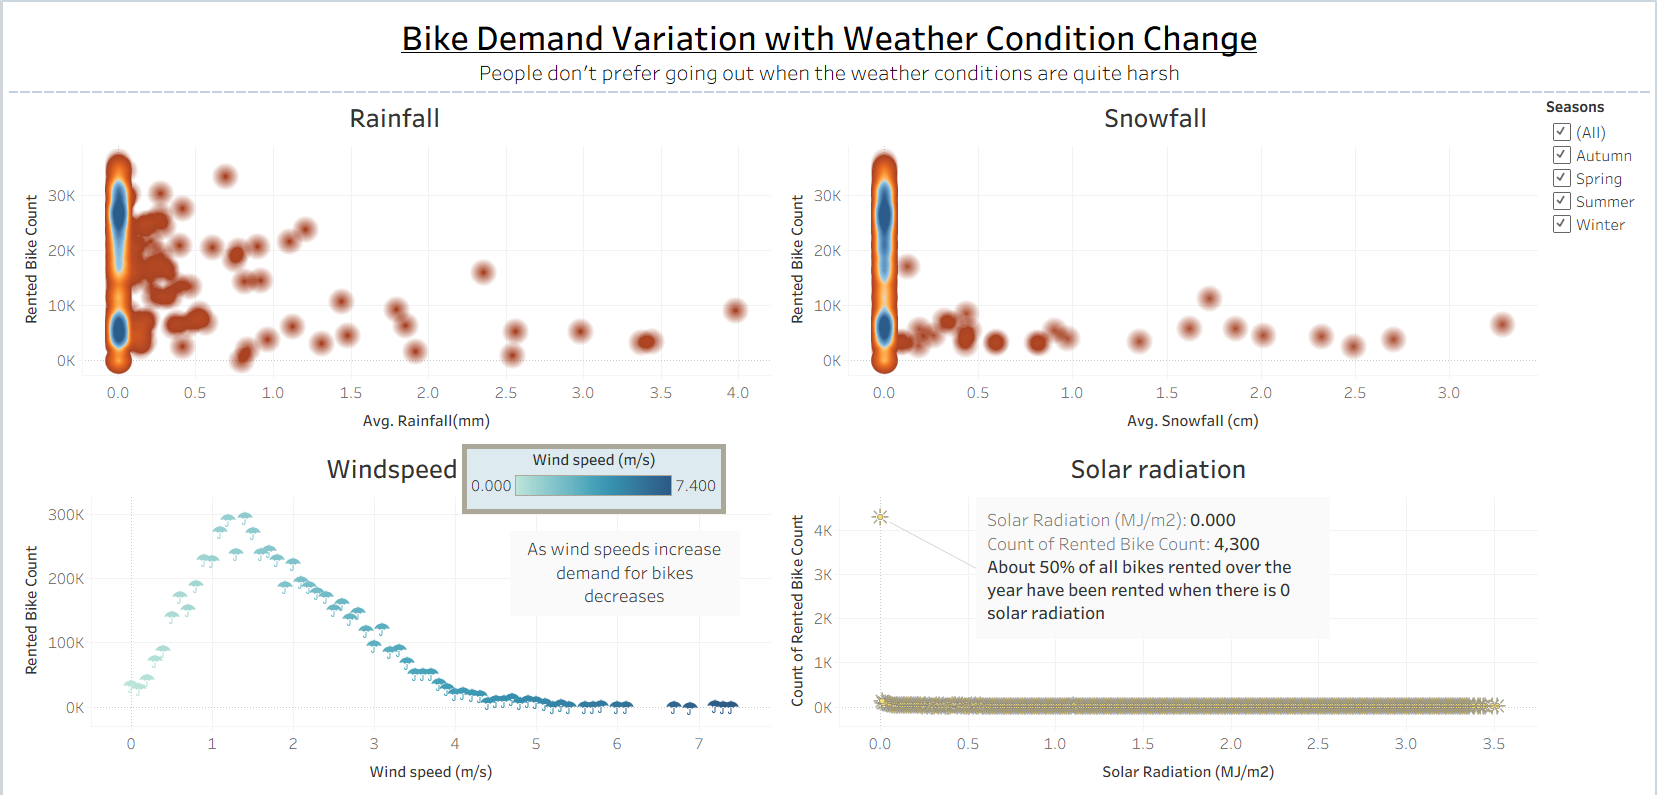

This screenshot's page, from the dashboard's own definition file:
{"tool":"tableau","page":{"name":"Weather Conditions","canvas":[1000,1000],"units":"permille","ordinal":3},"visuals":[{"type":"text","box":[6.5,11.3,987,104.9]},{"type":"worksheet","title":"rainfall d3","mark":"Heatmap","rows":["Rented Bike Count"],"cols":["Rainfall(mm)"],"box":[6.5,116.2,449.5,436.2]},{"type":"worksheet","title":"snowfall d3","mark":"Heatmap","rows":["Rented Bike Count"],"cols":["Snowfall (cm)"],"box":[456,116.2,449.6,436.2]},{"type":"filter","title":"rainfall d3","param":"[federated.1qjxm6e1j7kkr110pkmjh0wcti3r].[none:Seasons:nk]","box":[905.6,116.2,87.9,179.6]},{"type":"worksheet","title":"windspeed d3","mark":"Shape","rows":["Rented Bike Count"],"cols":["Wind speed (m/s)"],"box":[6.5,552.4,449.5,436.2]},{"type":"worksheet","title":"solarrad d3","mark":"Shape","rows":["Rented Bike Count"],"cols":["Solar Radiation (MJ/m2)"],"box":[456,552.4,449.6,436.2]},{"type":"legend","title":"windspeed d3","param":"[federated.1qjxm6e1j7kkr110pkmjh0wcti3r].[none:Wind speed (m/s):qk]","box":[278.3,554.5,159.5,87.7]}]}

Visuals, with their boxes on the dashboard's canvas, which has no fixed pixel size, in thousandths of its width and height (x1, y1, x2, y2). These are canvas units, not pixel positions in the 1657x795 screenshot, which may show the page scaled, cropped or inside an application window:
text: bbox=[6, 11, 994, 116]
"rainfall d3" worksheet (Heatmap marks): bbox=[6, 116, 456, 552]
"snowfall d3" worksheet (Heatmap marks): bbox=[456, 116, 906, 552]
"rainfall d3" filter: bbox=[906, 116, 994, 296]
"windspeed d3" worksheet (Shape marks): bbox=[6, 552, 456, 989]
"solarrad d3" worksheet (Shape marks): bbox=[456, 552, 906, 989]
"windspeed d3" legend: bbox=[278, 554, 438, 642]
